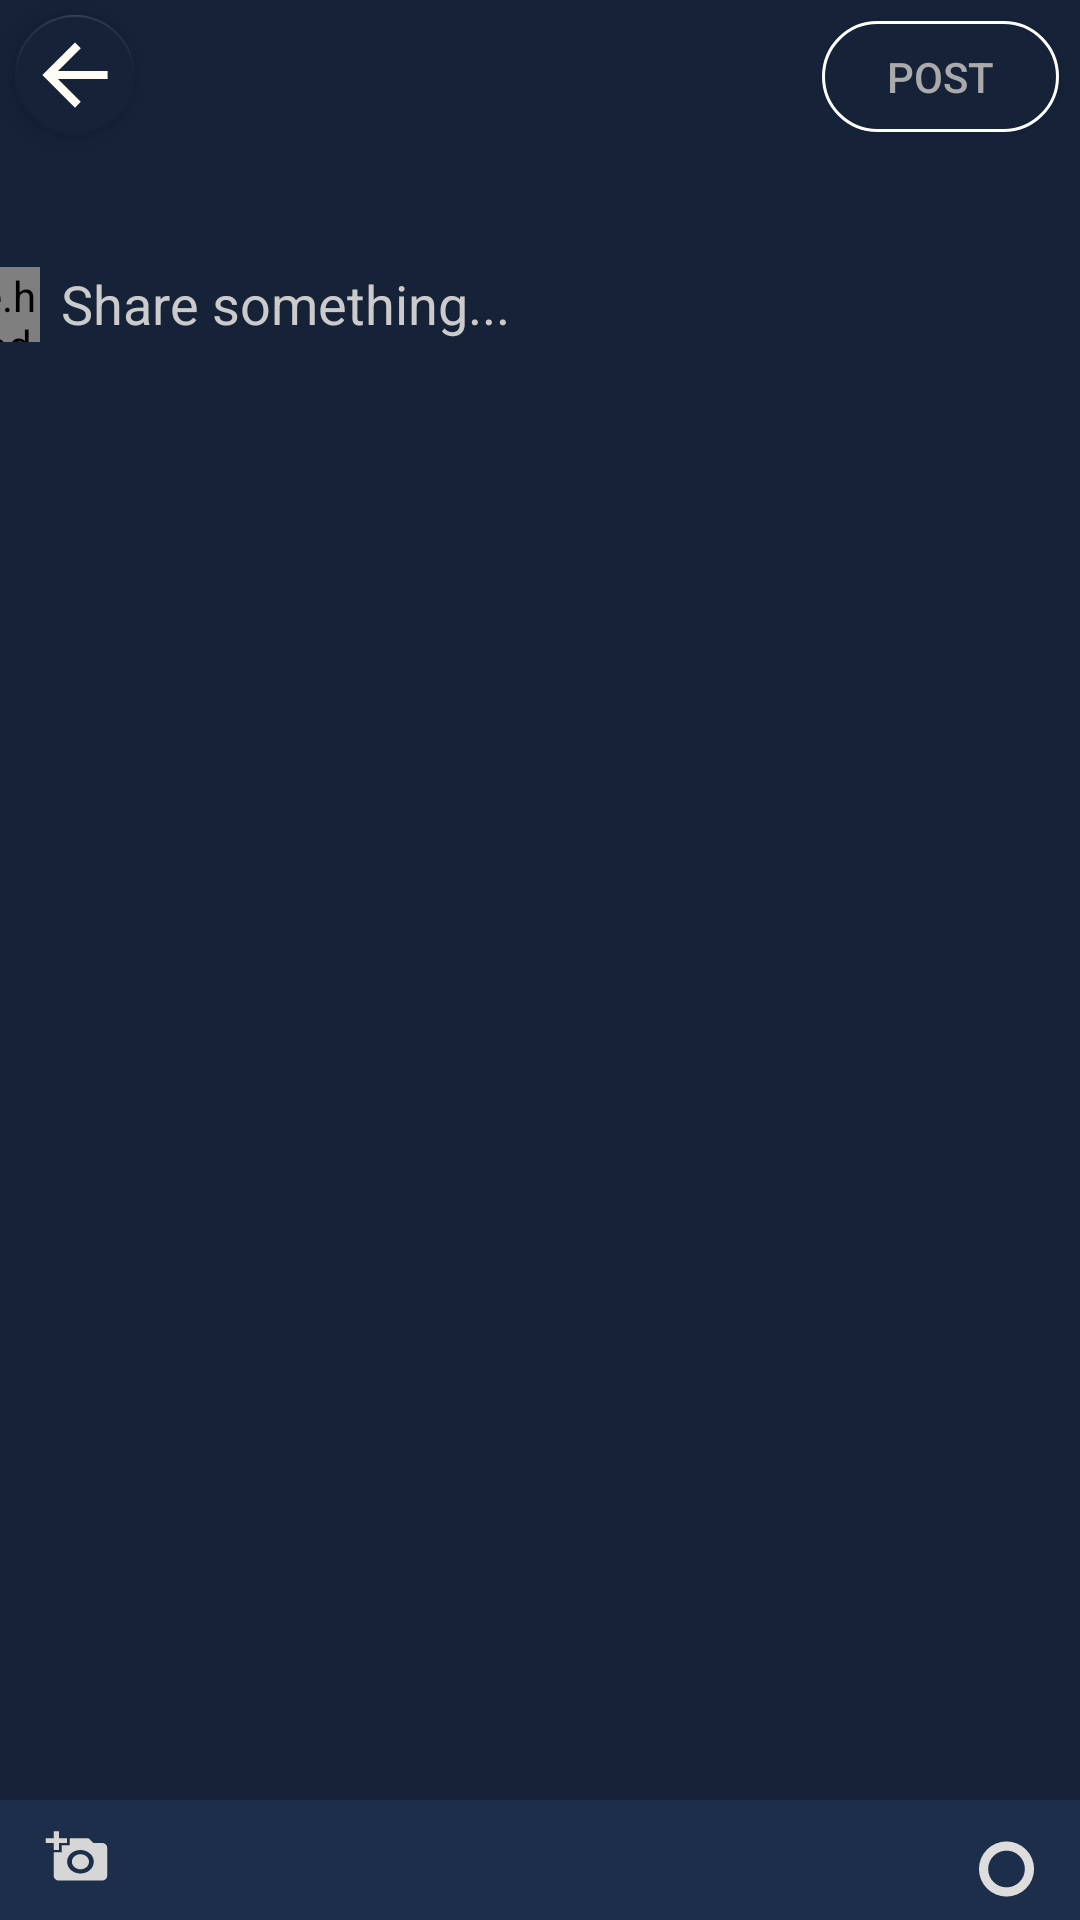

Named icons in this screenshot (1080*1920) and their centers, (x=x, y=y):
camera: (x=76, y=1856)
return: (x=75, y=61)
